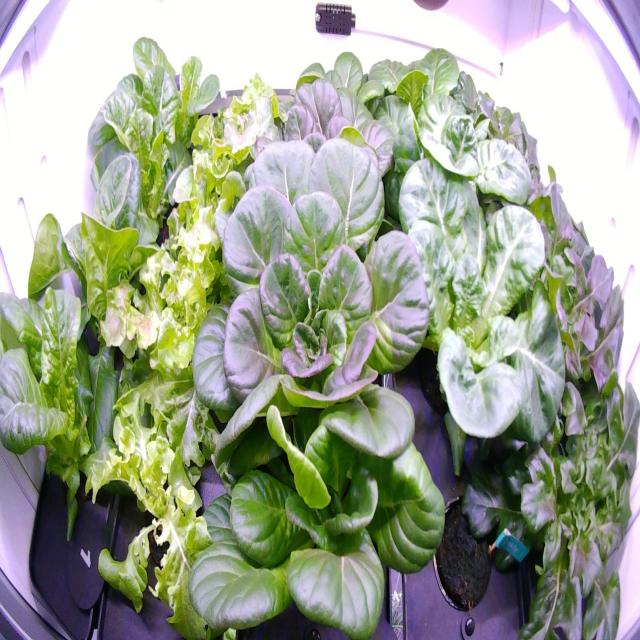Ready: (176, 127, 437, 502)
pod: (422, 486, 504, 614)
young: (376, 136, 576, 477), (178, 381, 452, 616), (0, 265, 121, 576), (17, 135, 169, 360), (228, 73, 410, 221), (373, 81, 541, 235), (72, 26, 186, 235), (363, 24, 495, 138), (270, 33, 385, 142), (121, 23, 227, 140)
